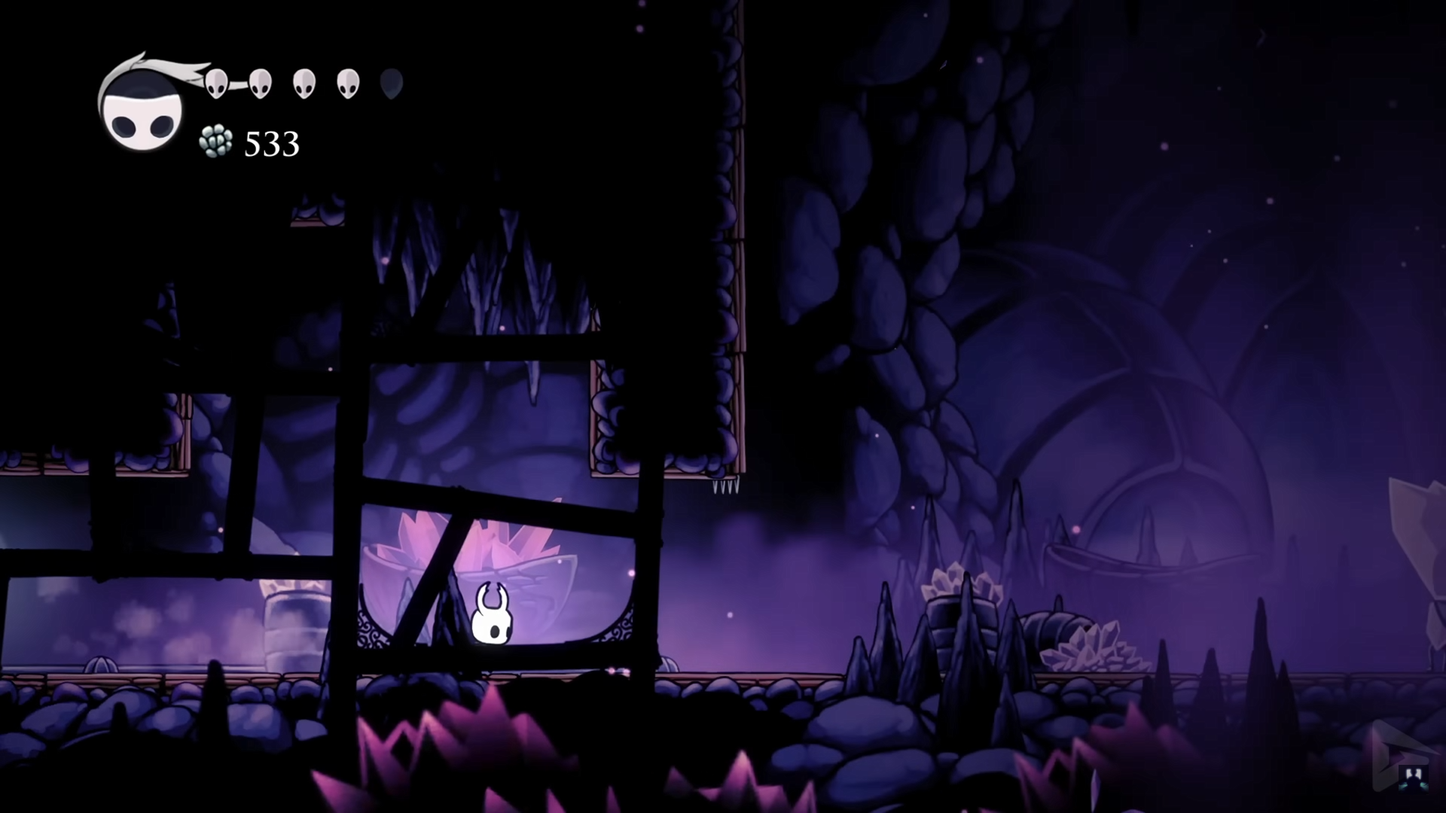HK: (465, 578, 513, 678)
